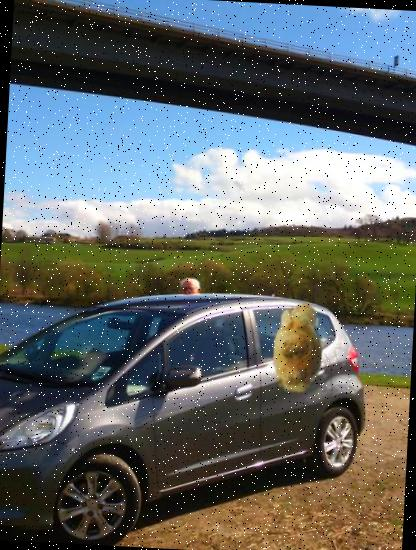Ginger: (249, 298, 347, 396)
